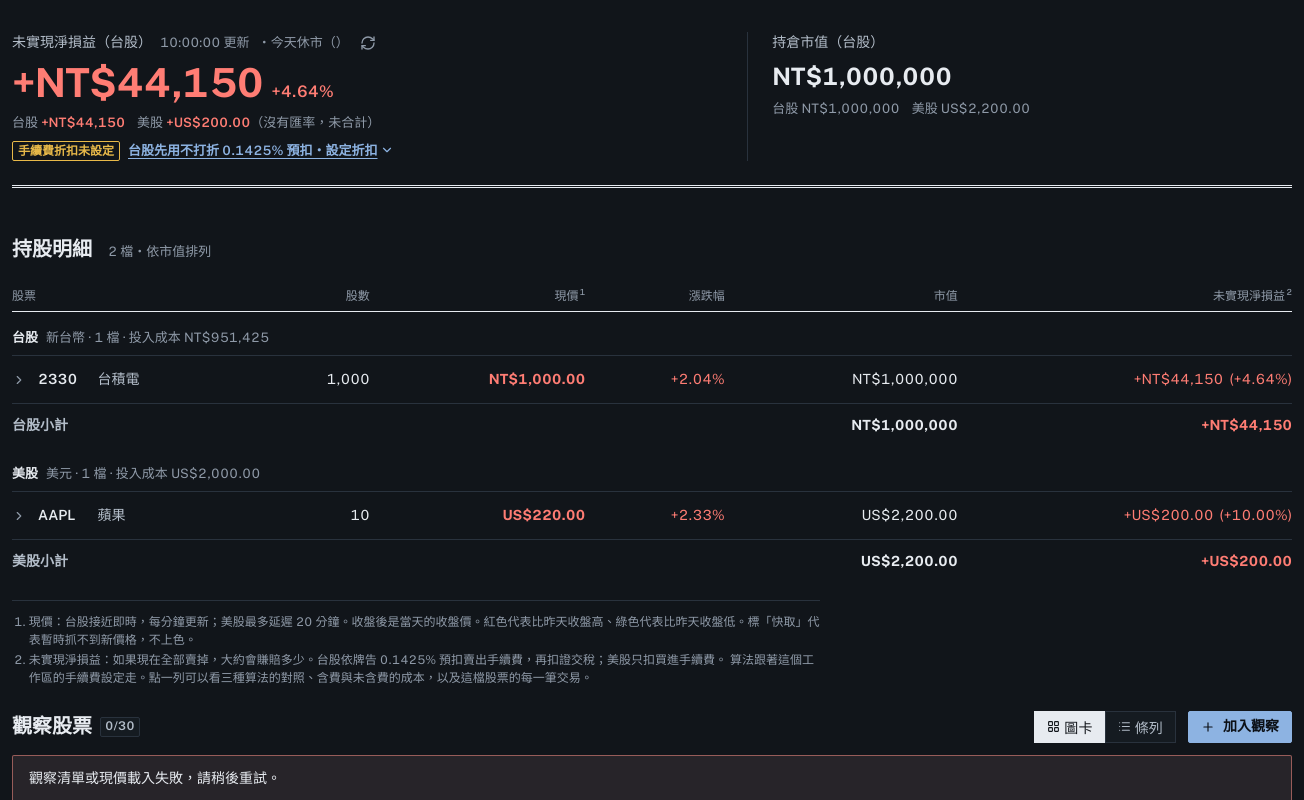
Test: DashboardPage › 美股持股列展開後沒有「個股分析」
The image size is (1304, 800).
Click the row with test id "holding-row-AAPL" at (652, 516), box top-left (12, 492), bottom-right (1292, 540)
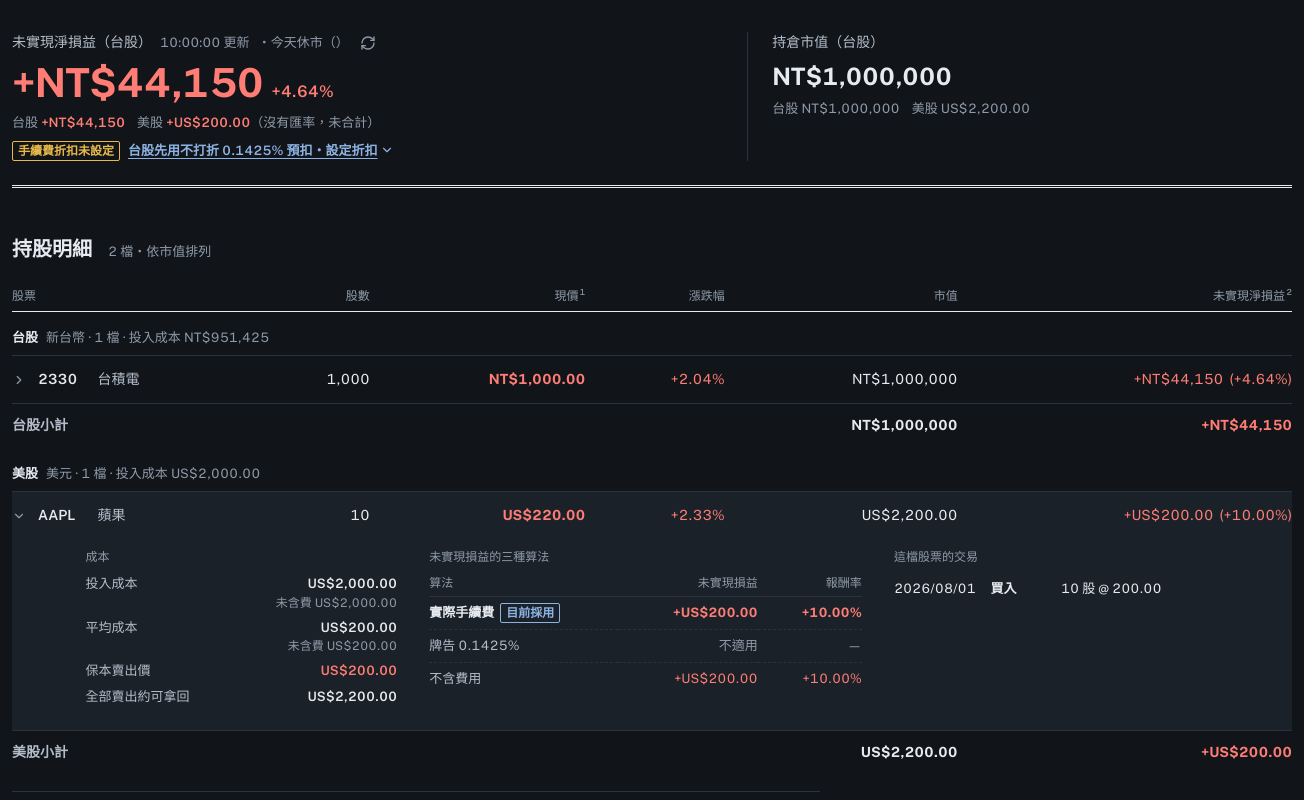
Expected: the heading "未實現損益的三種算法" is shown, top-left (429, 550), bottom-right (549, 564)
